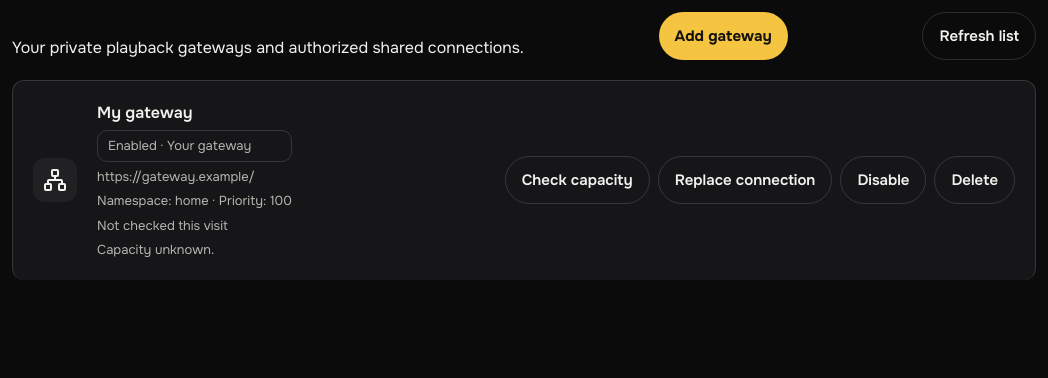
Test: v2 gateway management › shows missing capacity as unknown and zero as a genuine hint
The image size is (1048, 378).
Click the button with aria-label "Check My gateway": (577, 180) [505, 156, 650, 204]
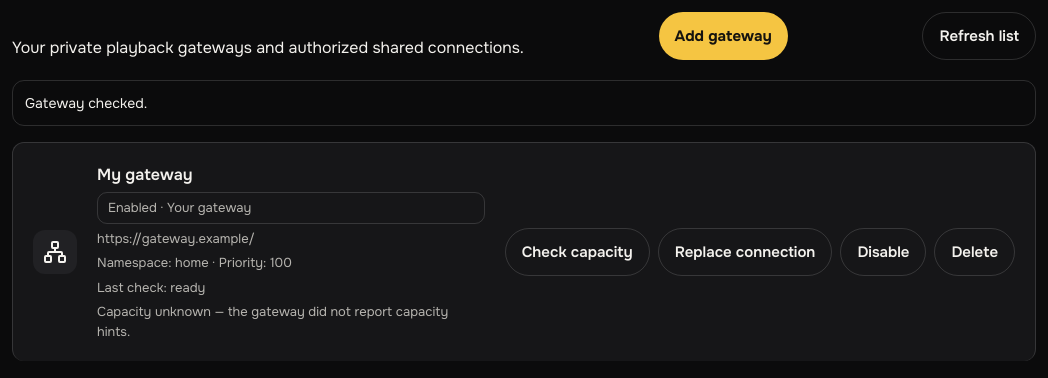
Result: the text "Capacity unknown — the gateway did not report capacity hints." is shown at [97, 302, 485, 341]
Click the button with aria-label "Check My gateway": (577, 252) [505, 228, 650, 276]
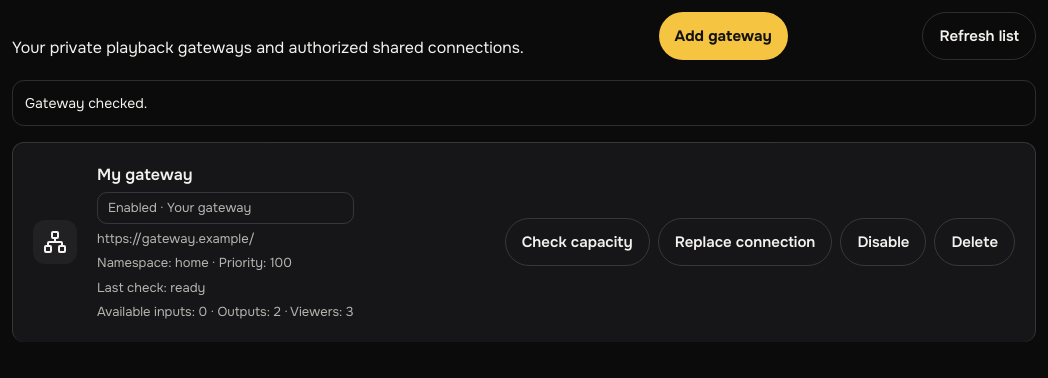
Result: the text "Available inputs: 0 · Outputs: 2 · Viewers: 3" is shown at [97, 302, 354, 322]
